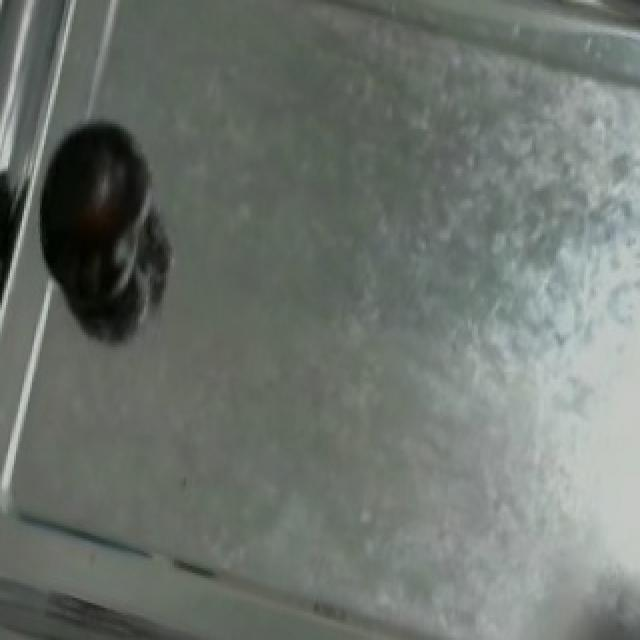Fruit: (20, 107, 174, 332)
